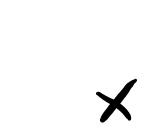mult: (95, 79, 138, 124)
